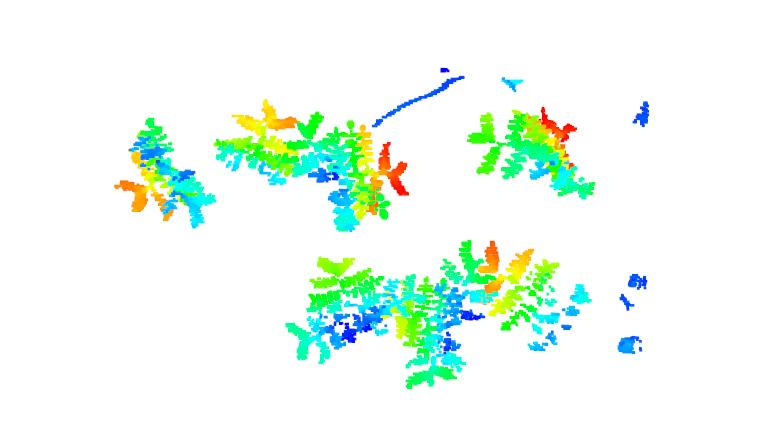chickpea: (470, 239, 595, 353), (284, 253, 400, 367), (400, 237, 485, 389), (466, 107, 598, 200), (110, 115, 217, 229), (320, 120, 412, 235), (215, 99, 331, 187)
